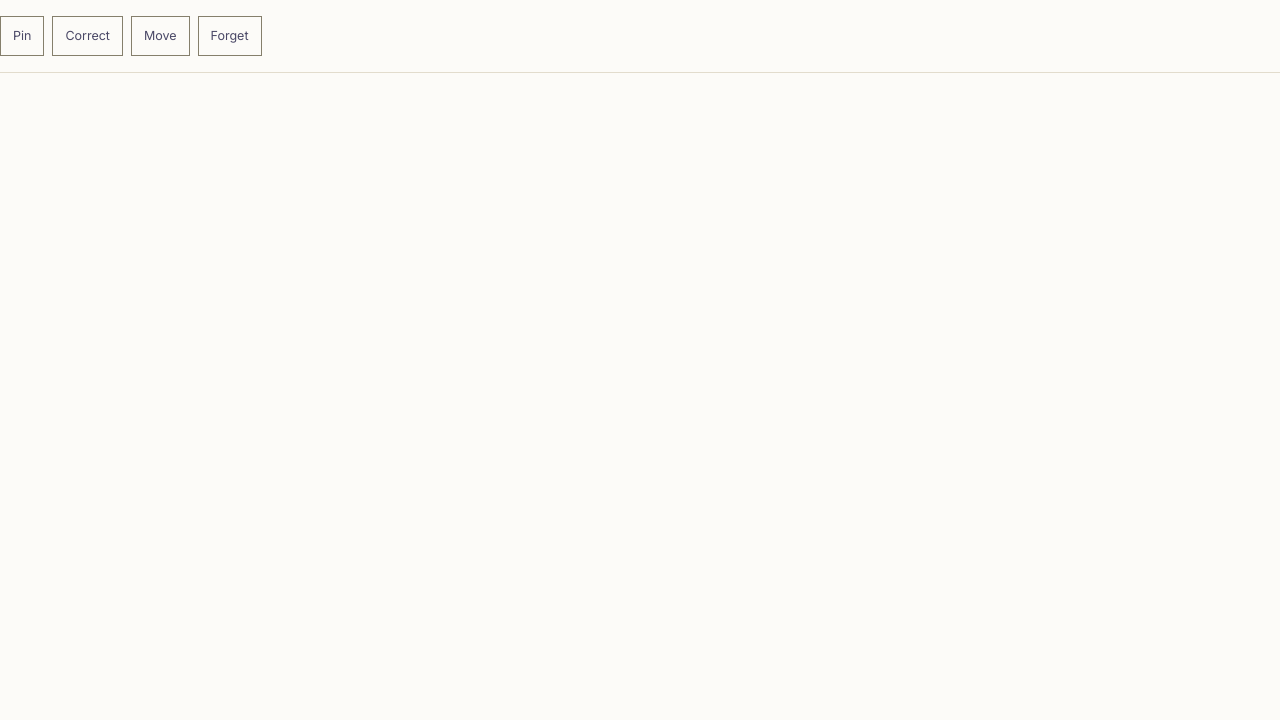
it: correct sends the new statement with the revision it was read at
Later steps or results of the test are not shown.
Click the button "Correct". click: [88, 36]
box: [52, 16, 123, 56]
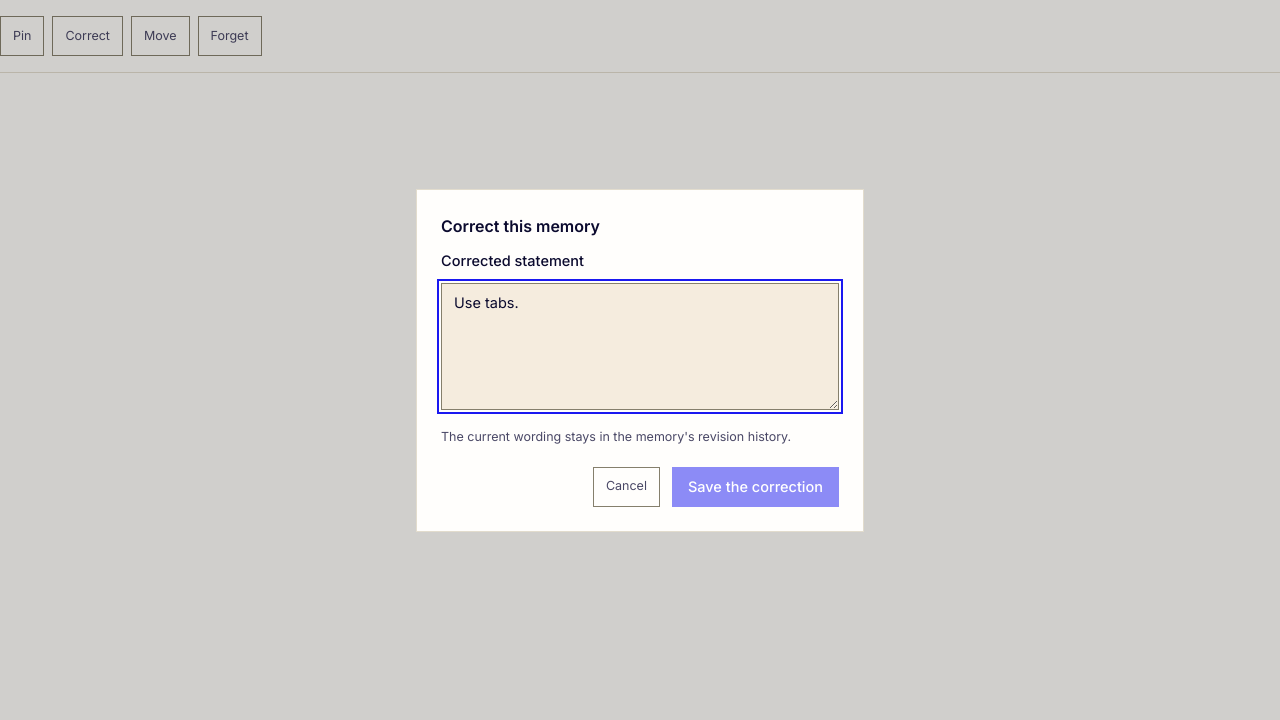
Now the text box labelled "Corrected statement" holds "Use tabs.", box [441, 283, 839, 410]
